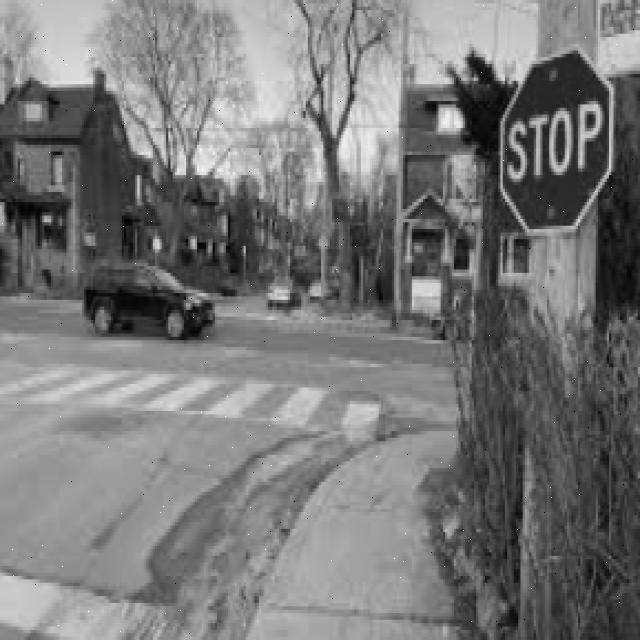Stop-signs: (501, 43, 617, 233)
